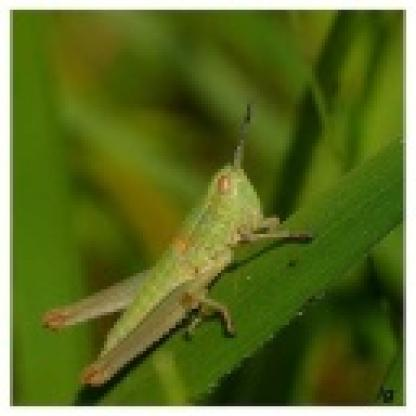grasshopper: (21, 93, 342, 406)
